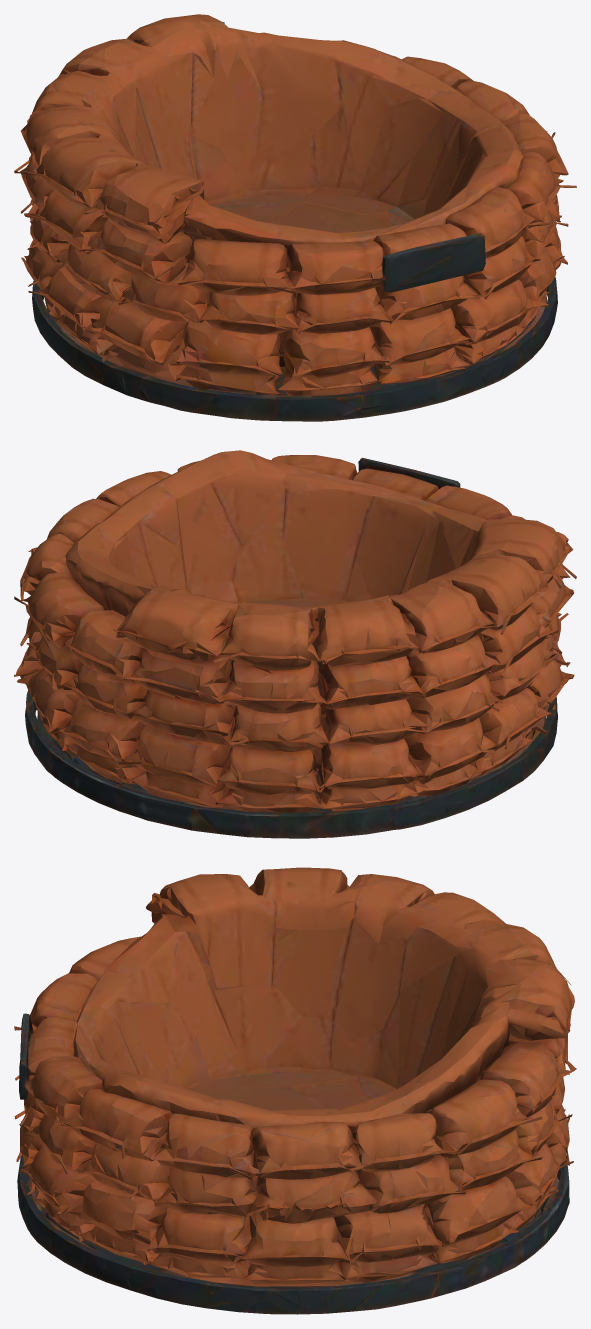
Rendered from mx_wz_sandbags.glb.
3 renders of one model, top to bottom at view 1: azimuth 30°, elevation 25°; view 2: azimuth 150°, elevation 25°; view 3: azimuth 270°, elevation 25°, orthographic. The views are drawn at different scales.
Bounding box in the file's own units: 1.92 × 0.8033 × 1.85.
Materials: 1 (1 with a texture image).
